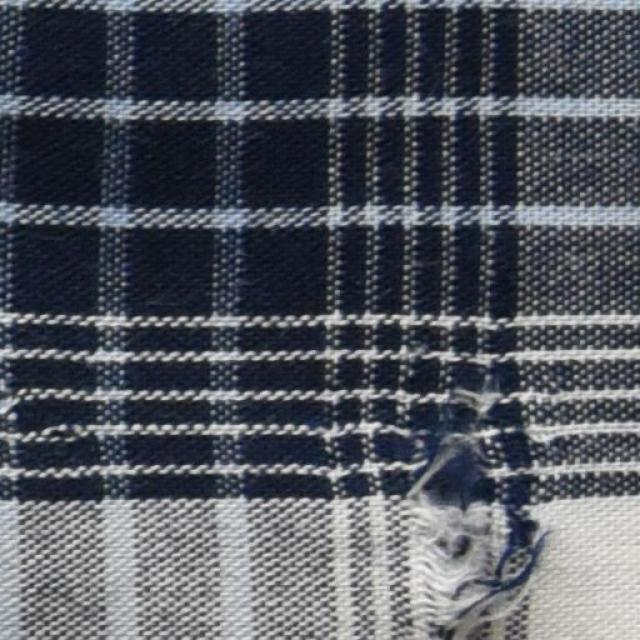Snag: (395, 383, 549, 639)
